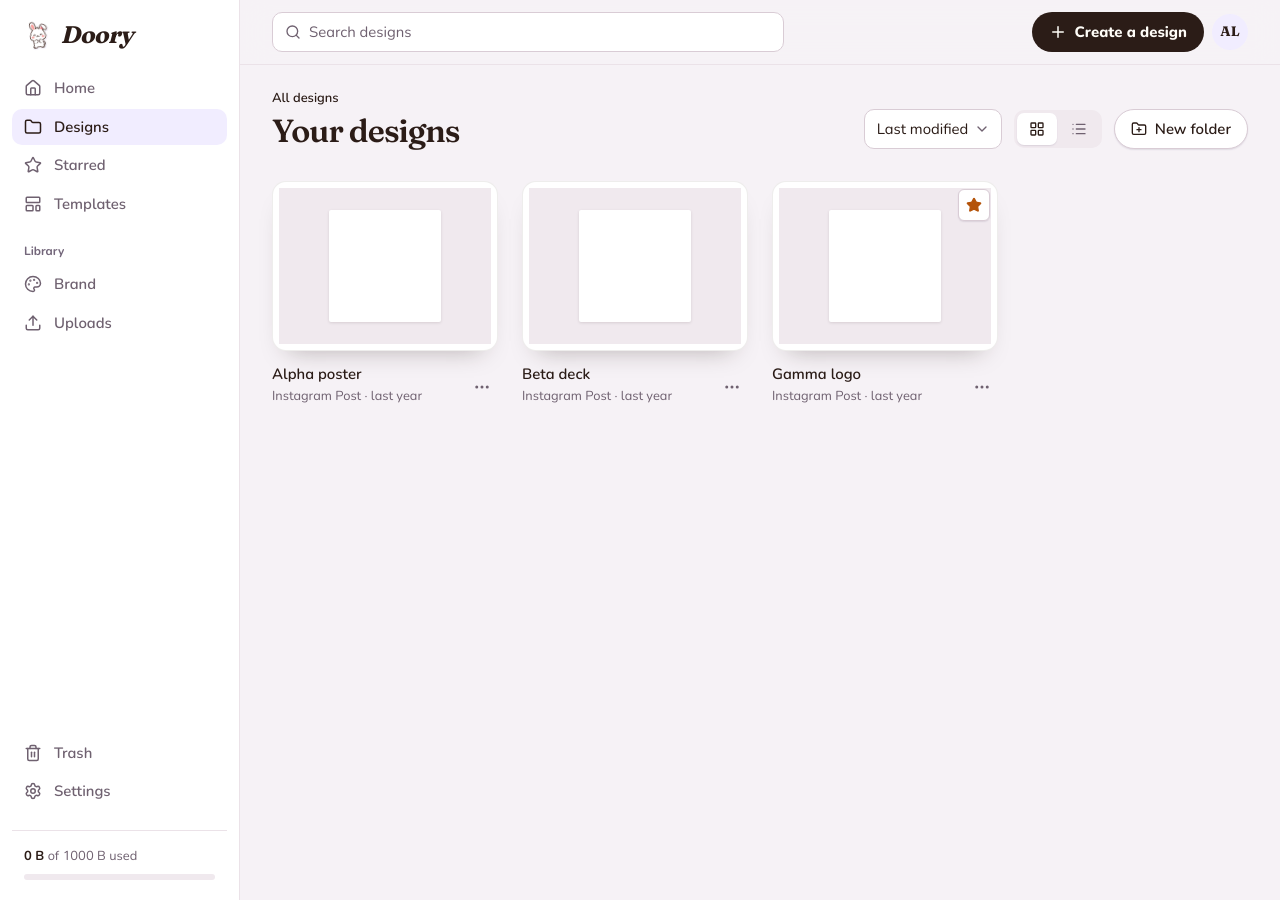
Test: designs page › renames inline: Enter commits, Escape cancels, blank names are ignored
Expected: the heading "Your designs" is shown, [272,112,460,149]
Step 1. Click the button named "More actions for Alpha poster" → (482, 387), box [466,371,498,403]
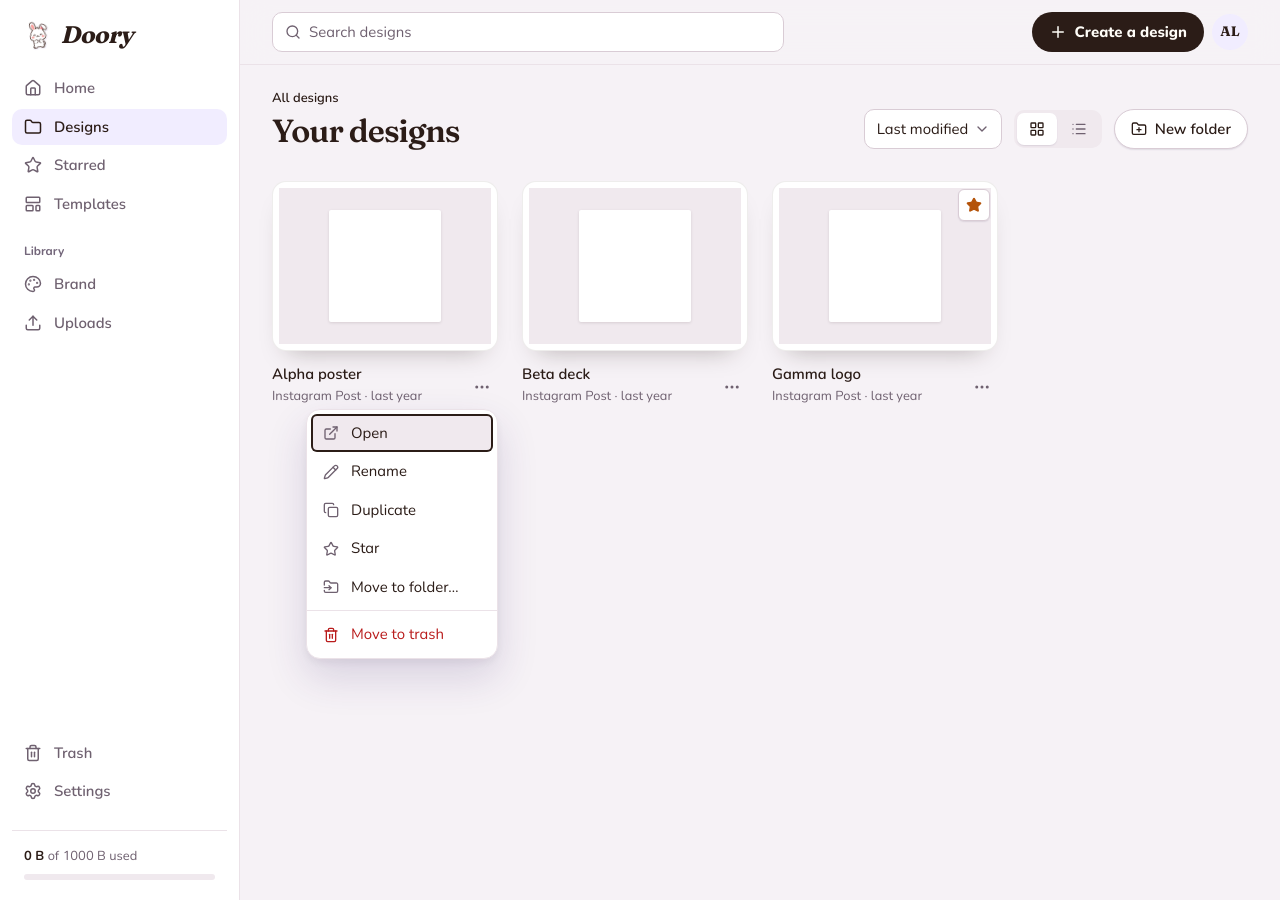
Step 2. Click the menu item "Rename" → (402, 472), box [311,452,493,491]
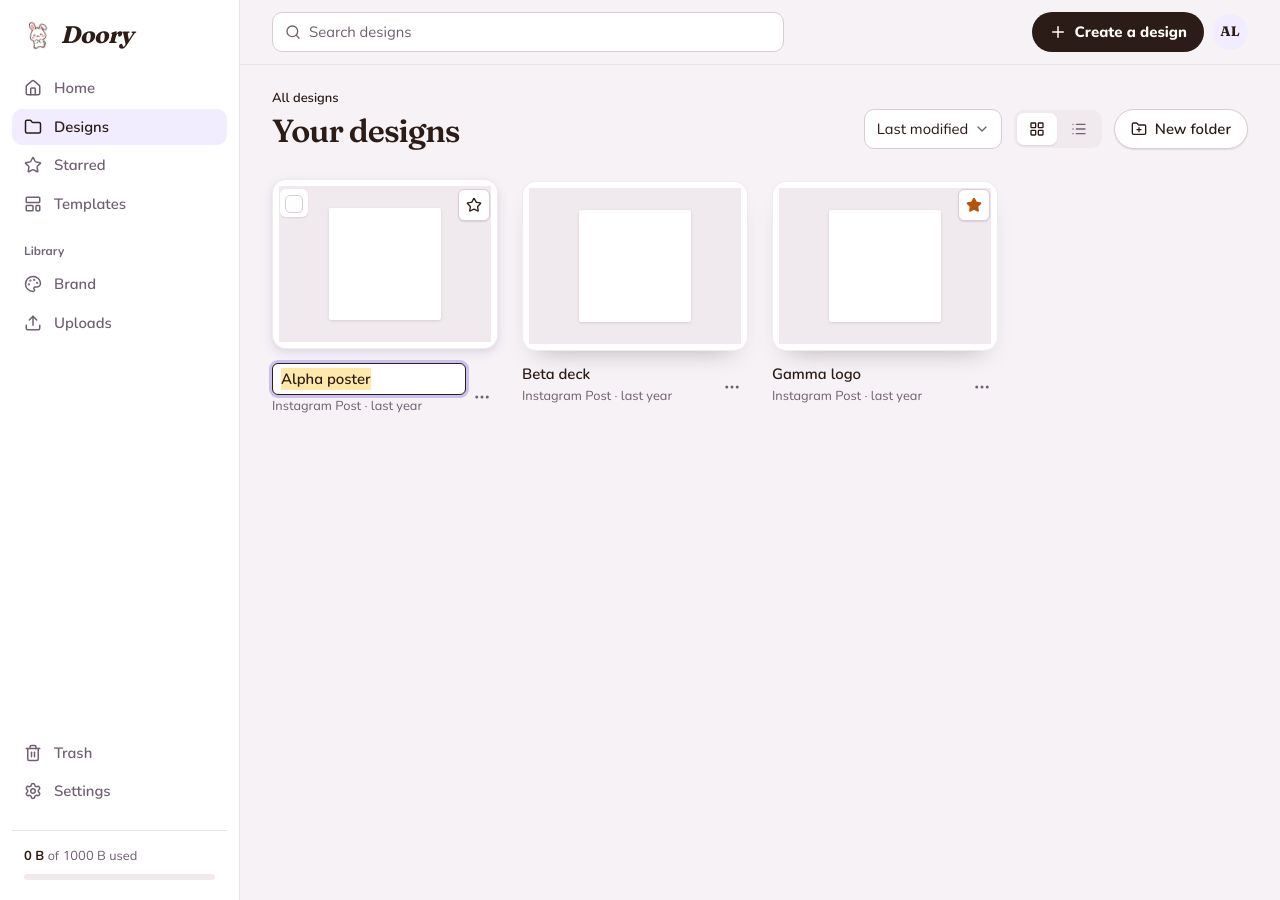
Step 3. Replace the text in the field named "Rename Alpha poster" with "Poster v2" → (369, 379), box [272,363,466,395]
Then press Enter
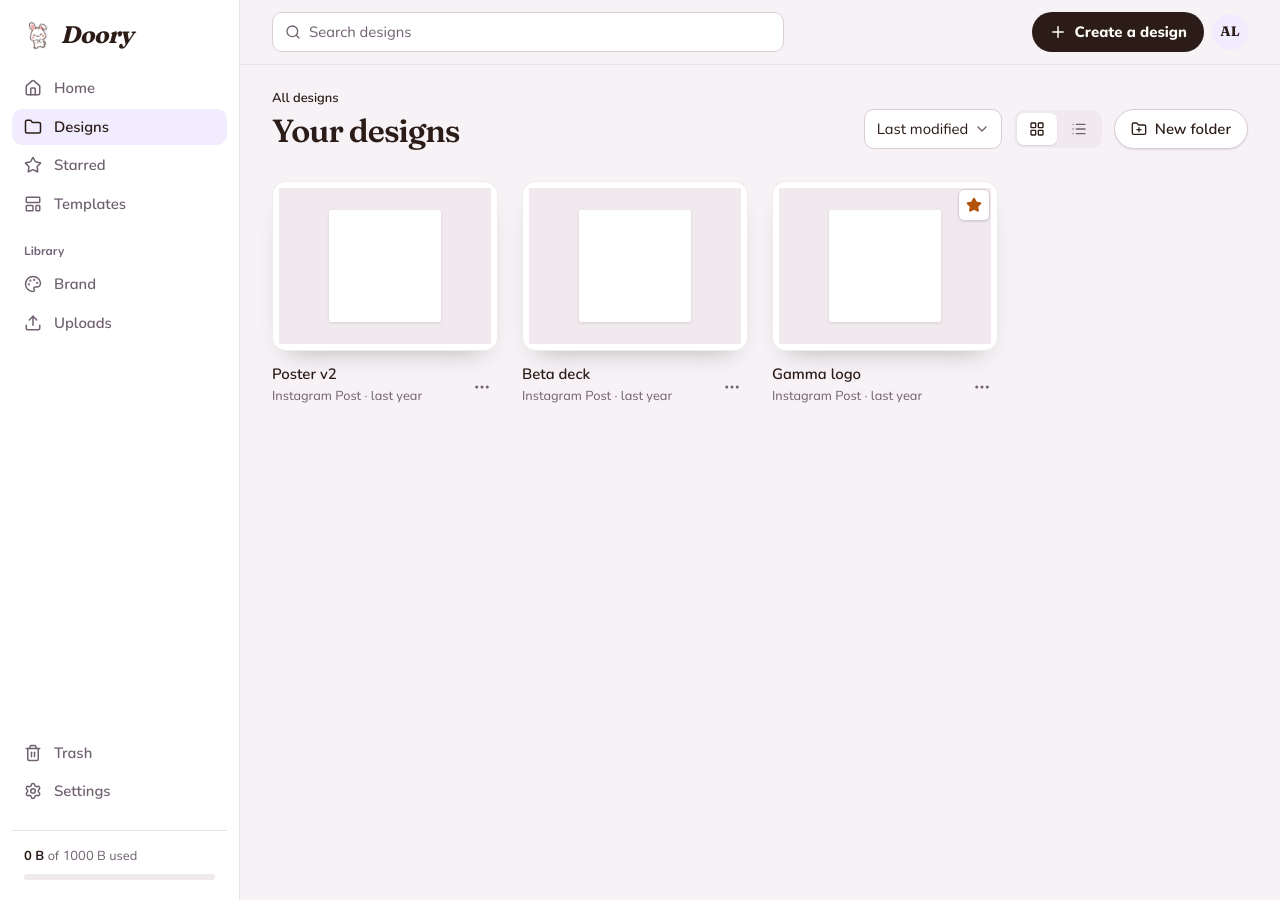
Expected: the link "Poster v2" is shown, [272,364,337,384]
Step 4. Click the button named "More actions for Beta deck" → (732, 387), box [716,371,748,403]
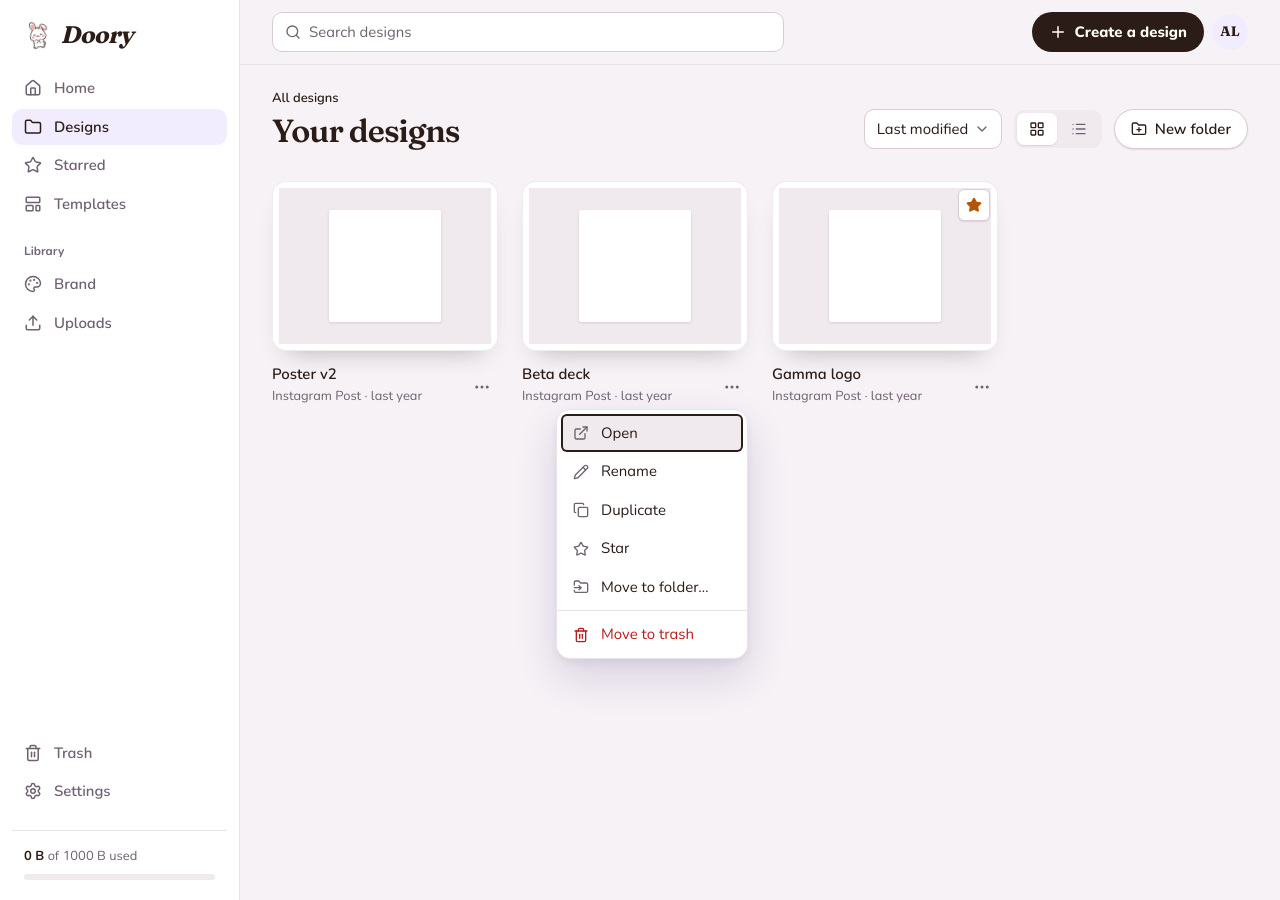
Step 5. Click the menu item "Rename" → (652, 472), box [561,452,743,491]
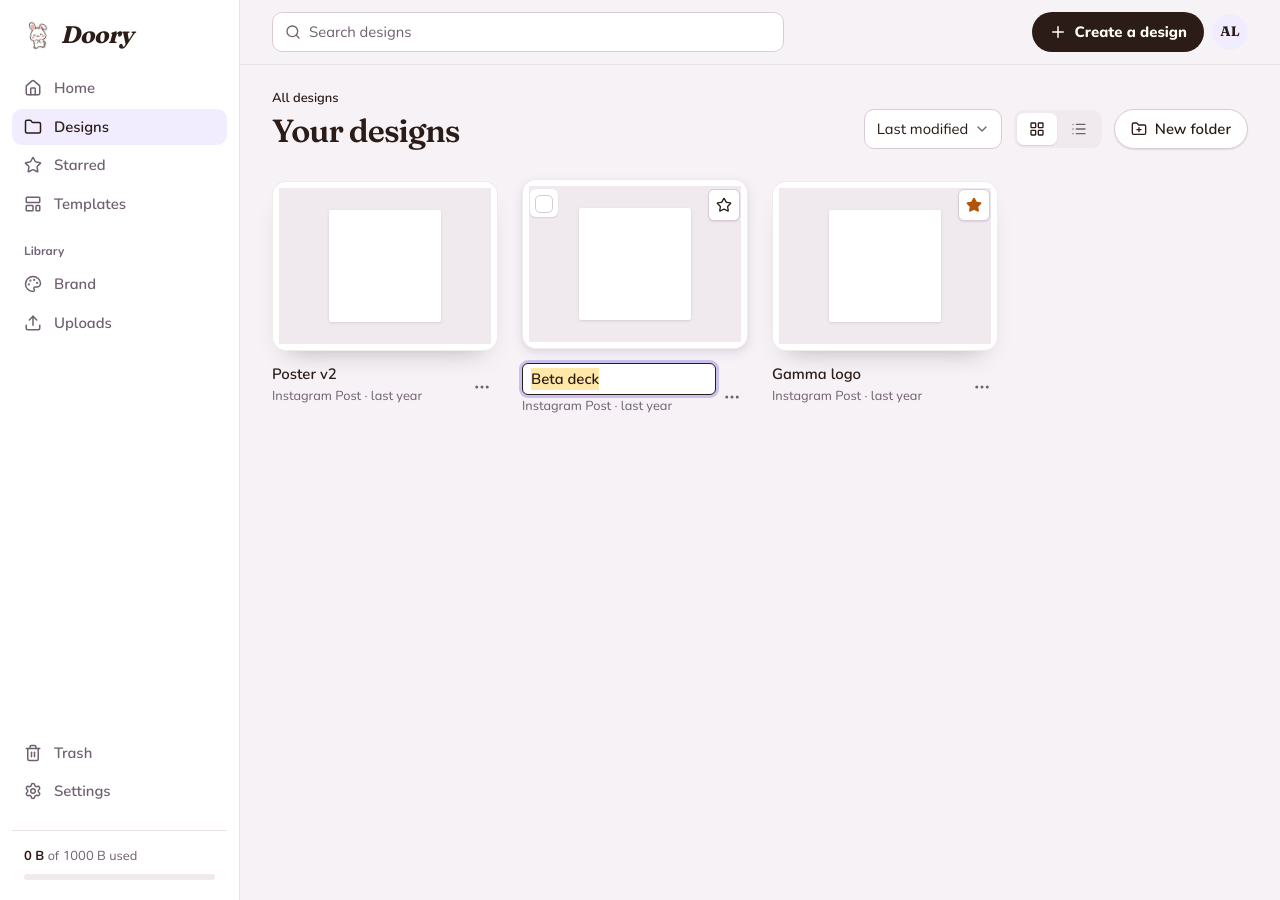
Step 6. Type " extra" into the field named "Rename Beta deck" → (619, 379), box [522,363,716,395]
Then press Escape
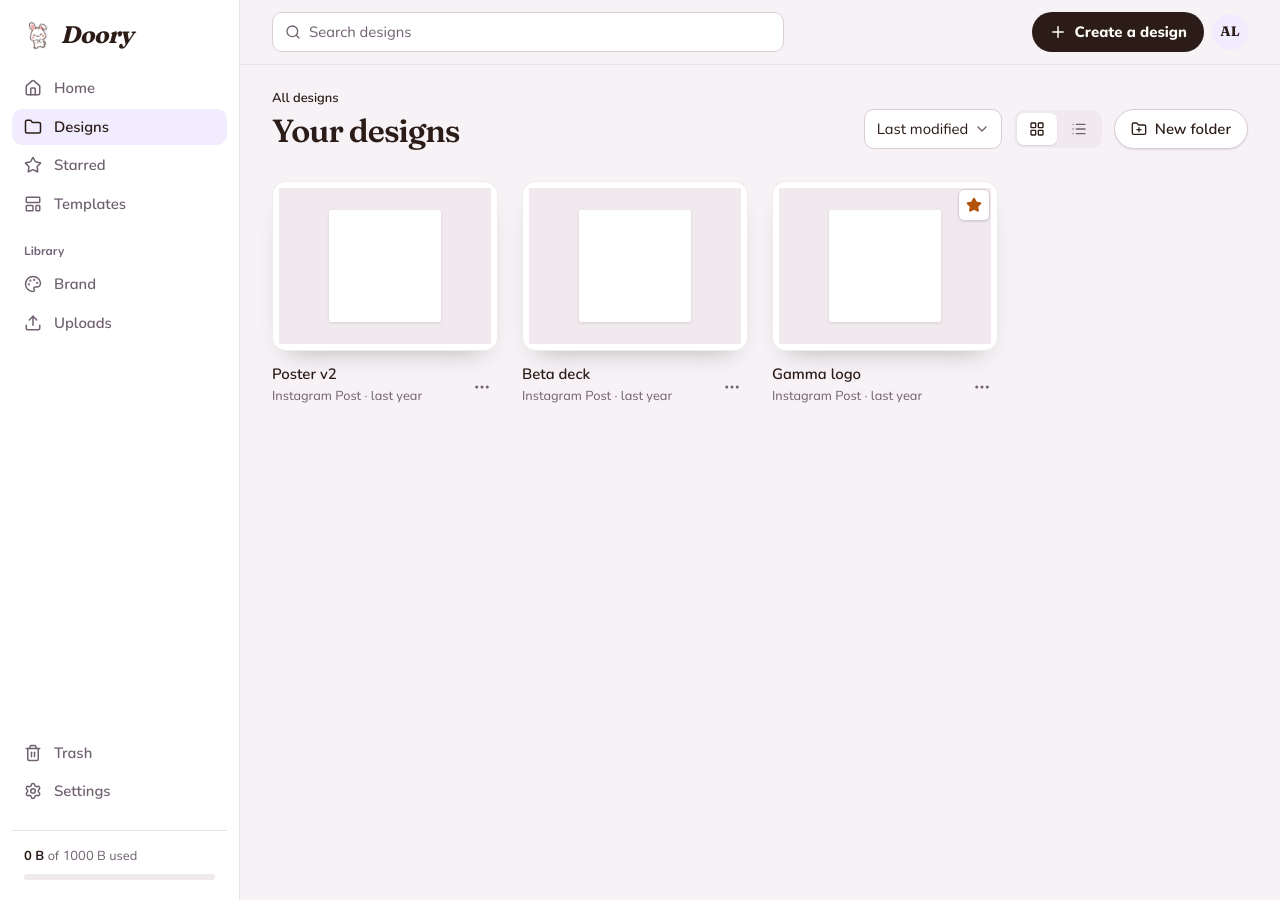
Expected: the link "Beta deck" is shown, [522,364,590,384]
